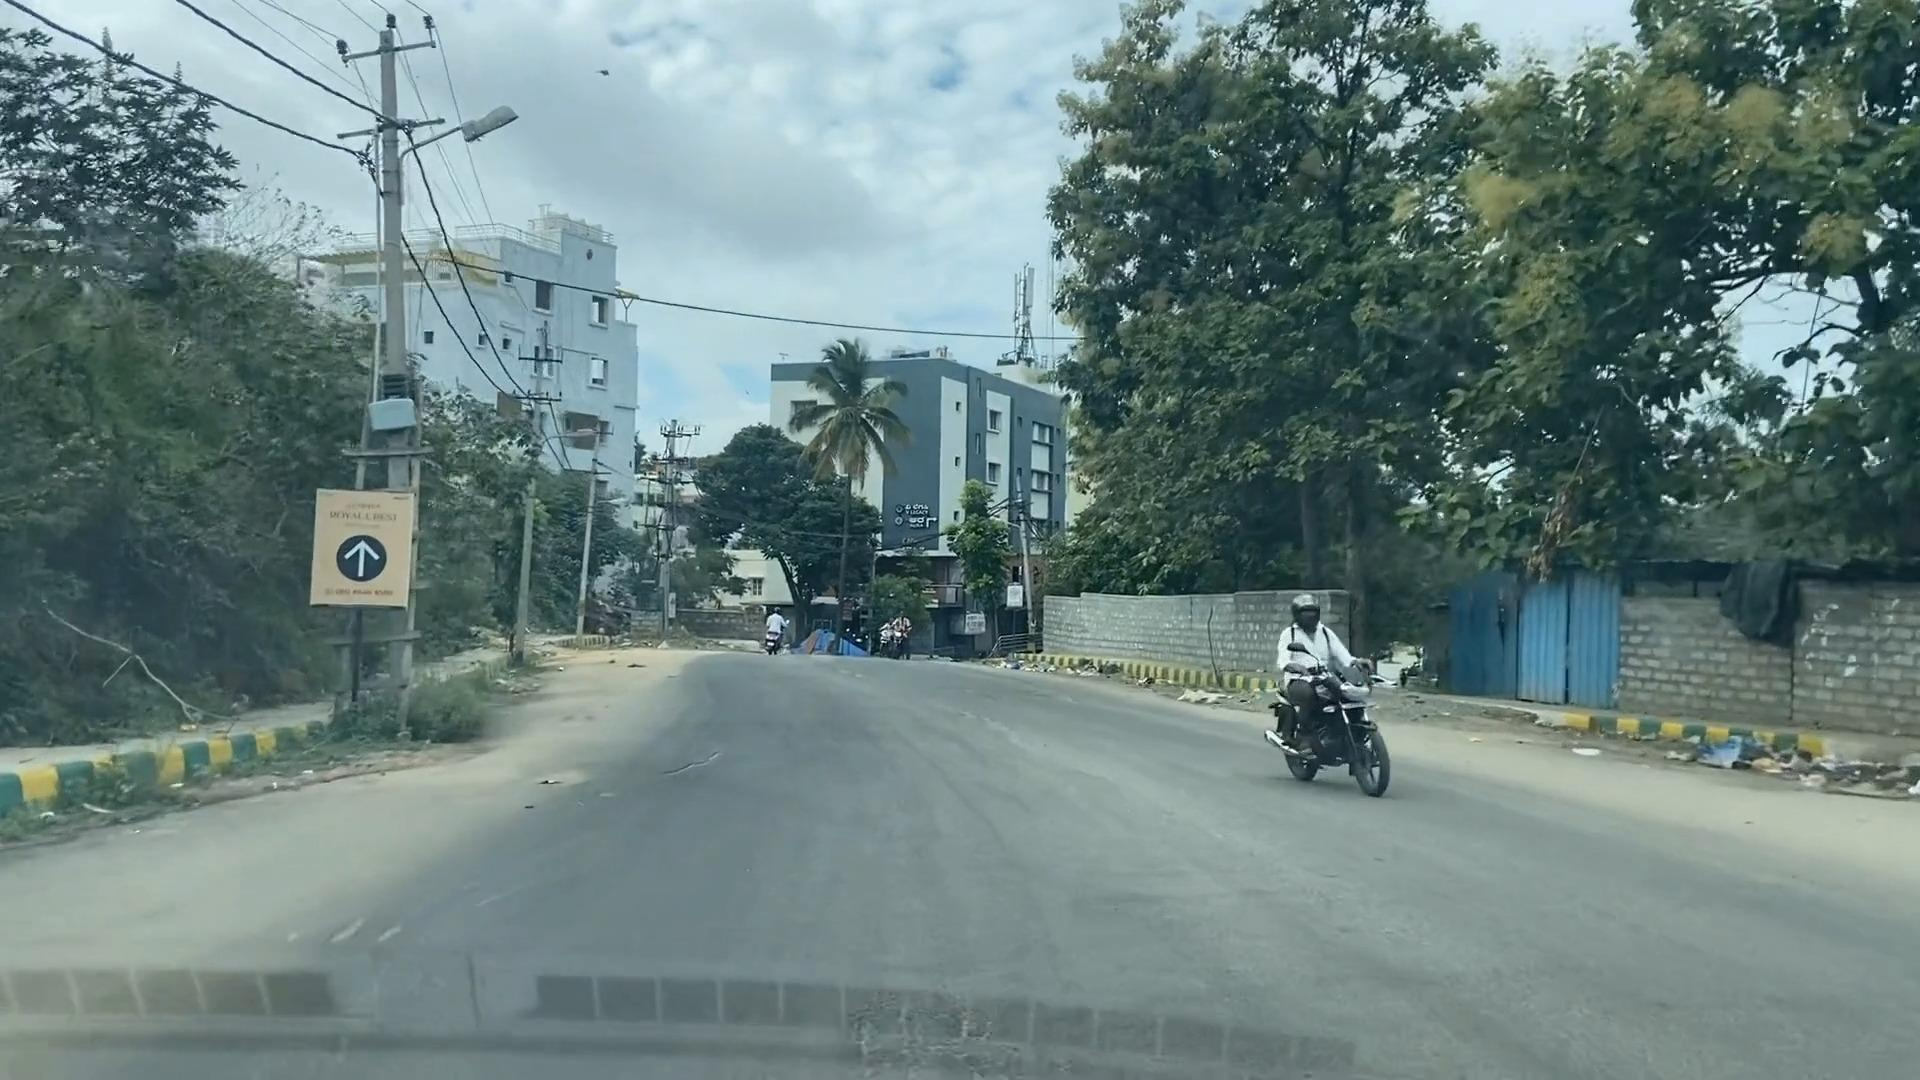RoadDamages: (505, 731, 628, 825), (645, 728, 765, 814)
